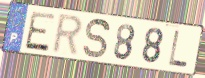8: (113, 23, 137, 62), (141, 27, 165, 65)
E: (23, 11, 57, 54)
L: (167, 29, 189, 70)
R: (50, 12, 84, 58)
S: (82, 18, 112, 61)
